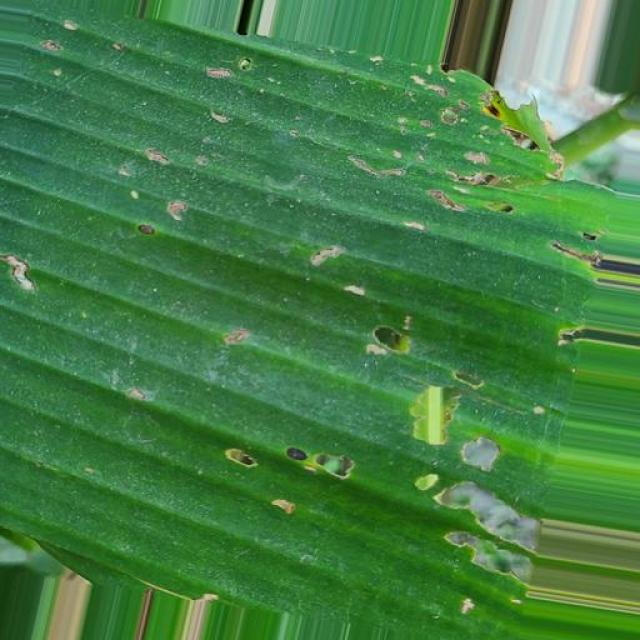Black_rot: (4, 47, 640, 625)
